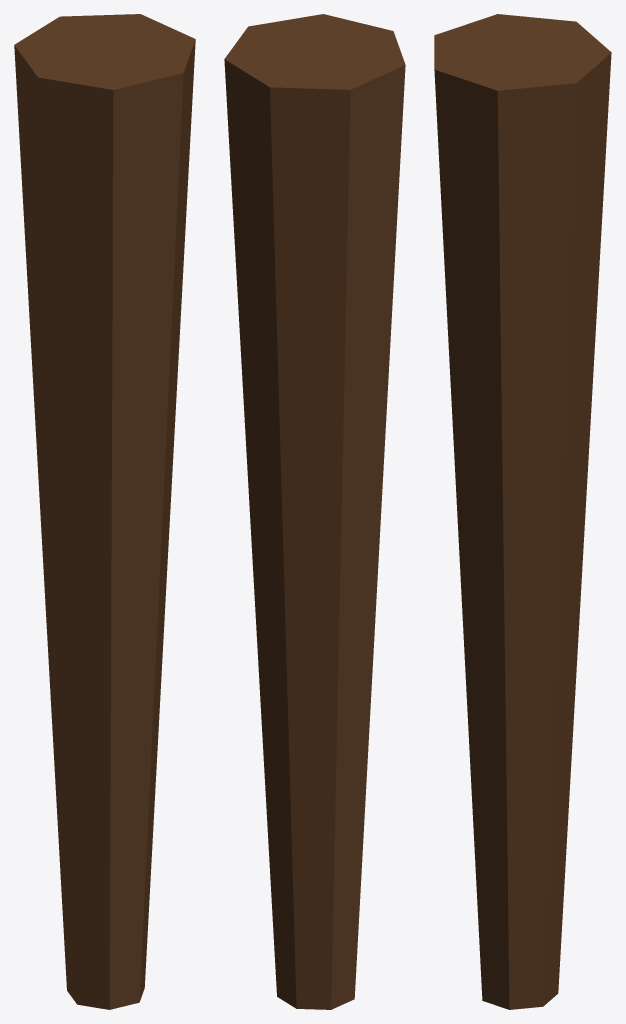
The model's file is wpn_club.glb.
The picture shows the model from 3 angles, left to right: view 1: azimuth 30°, elevation 25°; view 2: azimuth 150°, elevation 25°; view 3: azimuth 270°, elevation 25°; orthographic projection.
Visible parts, largest first — view 1: wpn_club; view 2: wpn_club; view 3: wpn_club.
Part boxes in pixels (left/top/right/bottom): wpn_club: left=14, top=14, right=195, bottom=1009; wpn_club: left=224, top=14, right=405, bottom=1009; wpn_club: left=434, top=14, right=611, bottom=1009.
Size of the model in its own units: 0.1365 by 0.78 by 0.1331.
